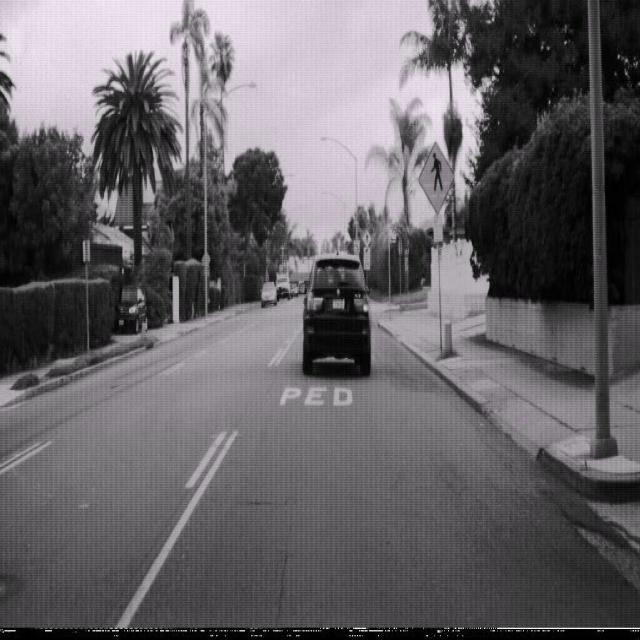pedestrianCrossing: (417, 140, 455, 213)
